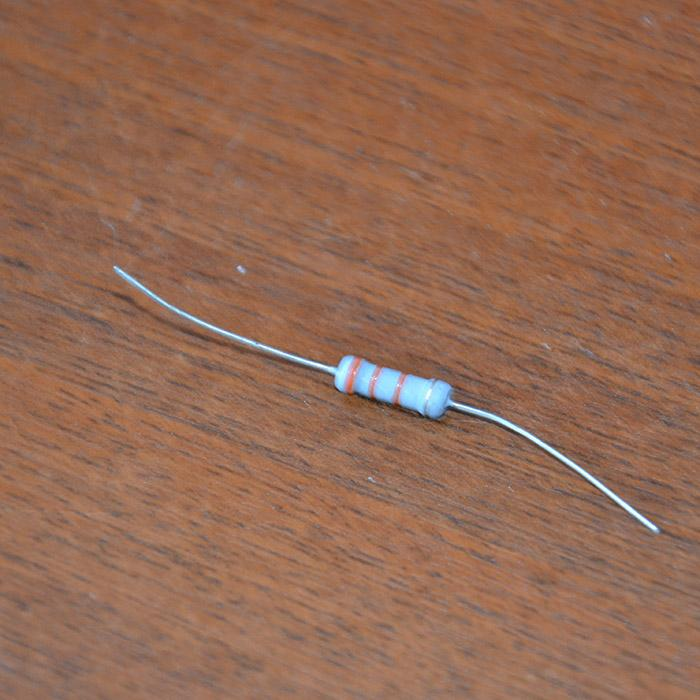resistor: (332, 352, 451, 419)
